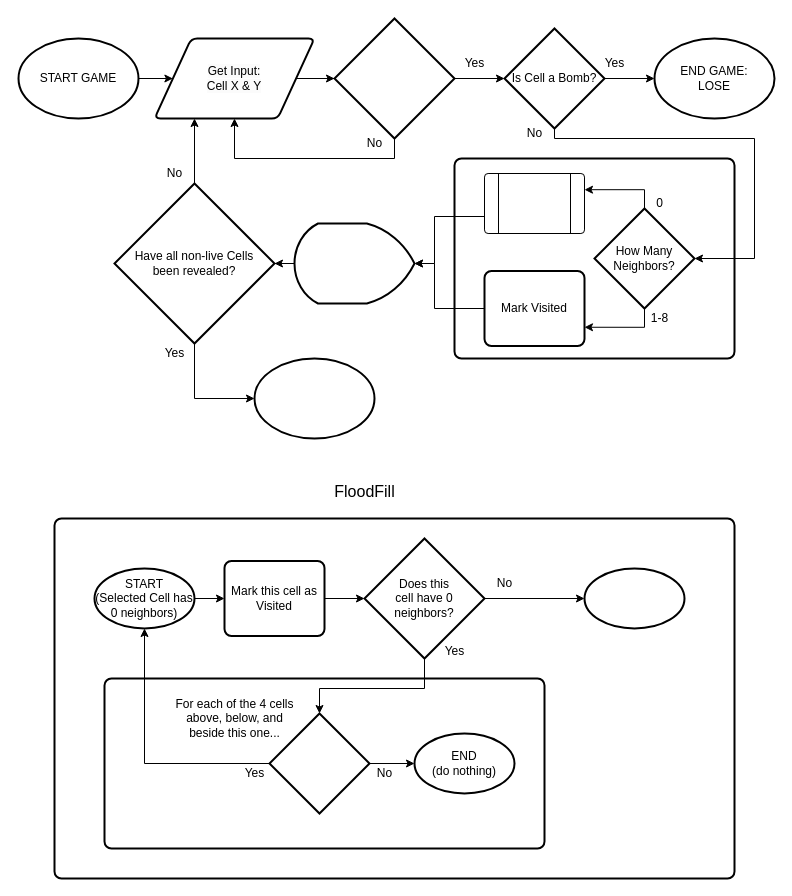
The diagram is 792 pixels wide and 896 high, and some of its shapes have lost their labels. The box of each missing label's shape, as (x1, y1, x2, y2) in pixels:
END (just return): (583, 567, 685, 629)
END GAME: WIN: (253, 357, 375, 439)
FloodFill (See Below): (484, 172, 584, 234)
Is Input Valid?: (333, 17, 455, 139)
IsValid && !Live && !Visited: (268, 712, 370, 814)
Print Board Status: (293, 222, 415, 304)
